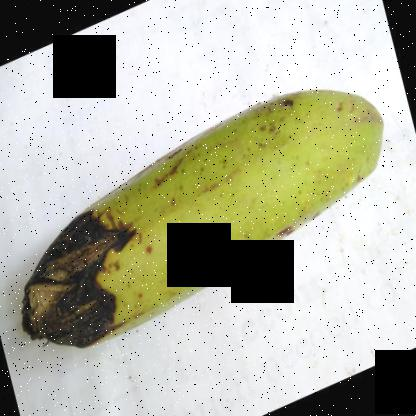rotten: (1, 183, 160, 361)
unripe: (112, 54, 398, 330)
